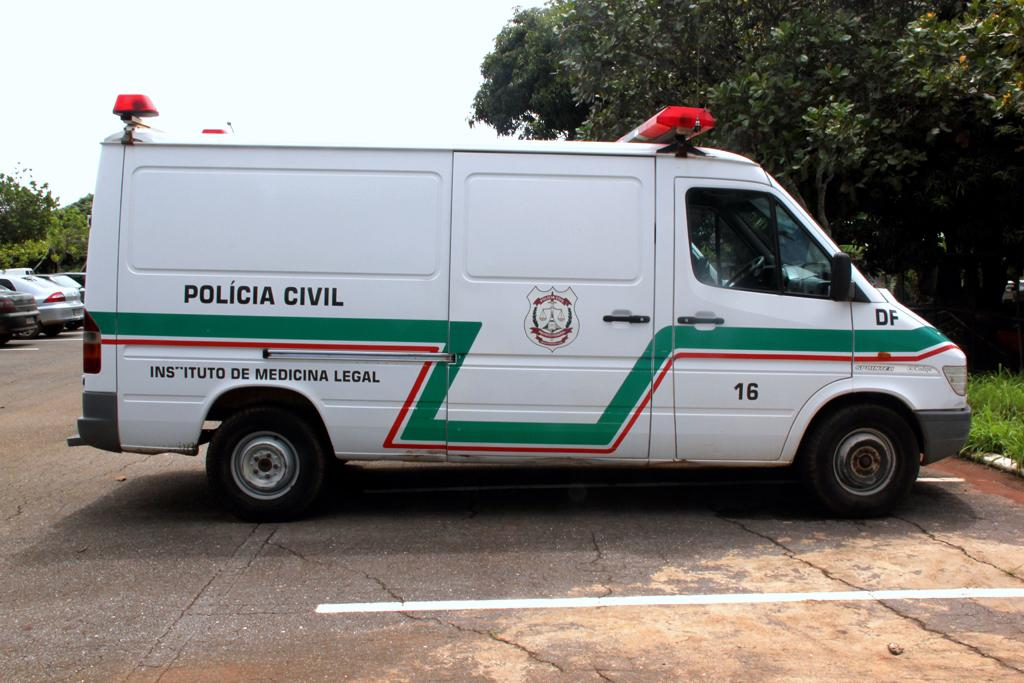Ambulance: (66, 91, 982, 514)
